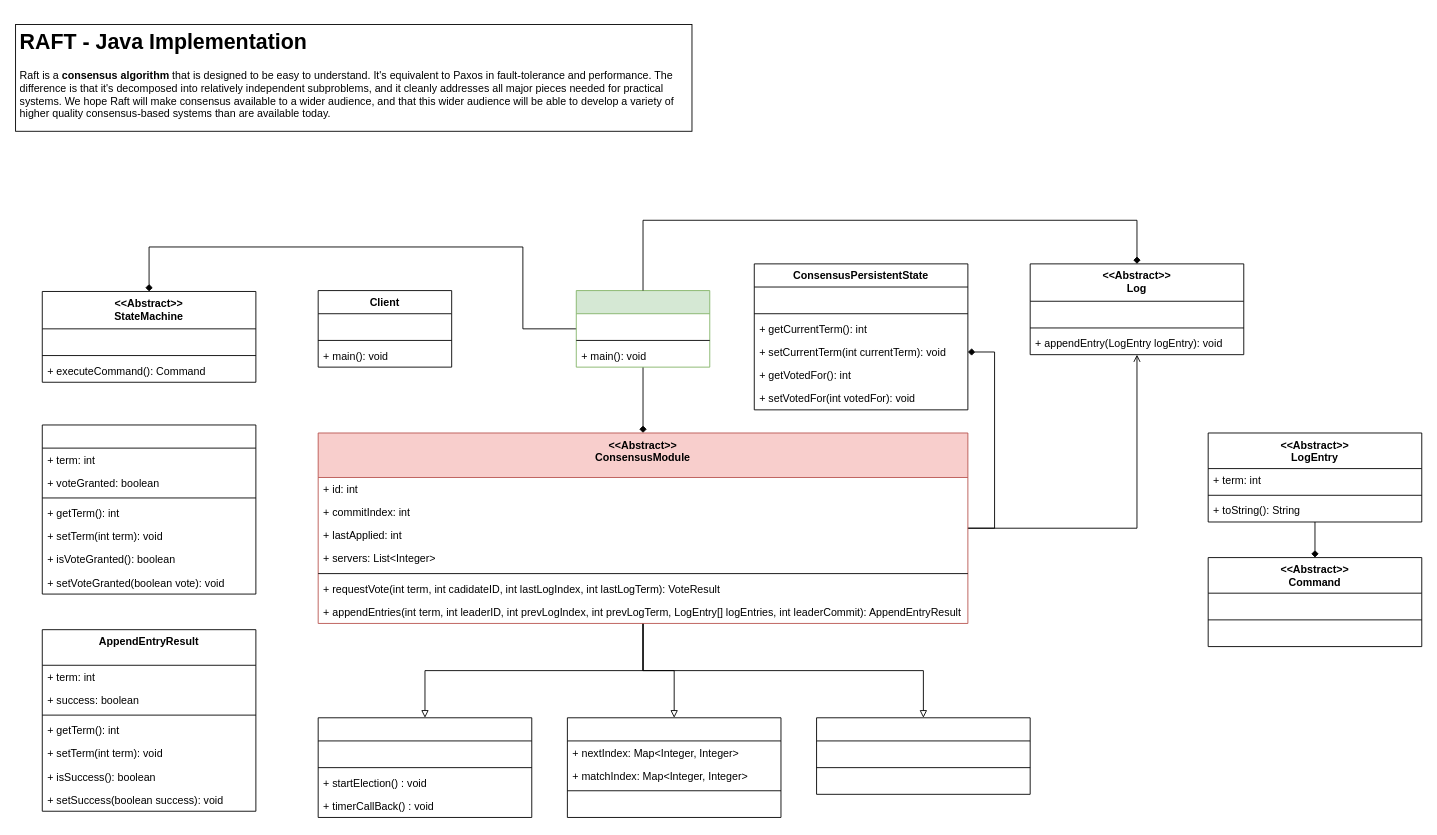
This 1437x835 diagram has some shape labels left out. The shapes that lost their labels are listed below. From the top down, each one's box as (x1, y1, x2, y2) in pixels, then its label:
(575, 290, 710, 367): Server
(41, 424, 256, 594): VoteResult
(317, 717, 532, 817): Candidate
(566, 717, 781, 817): Leader
(816, 717, 1030, 794): Follower
